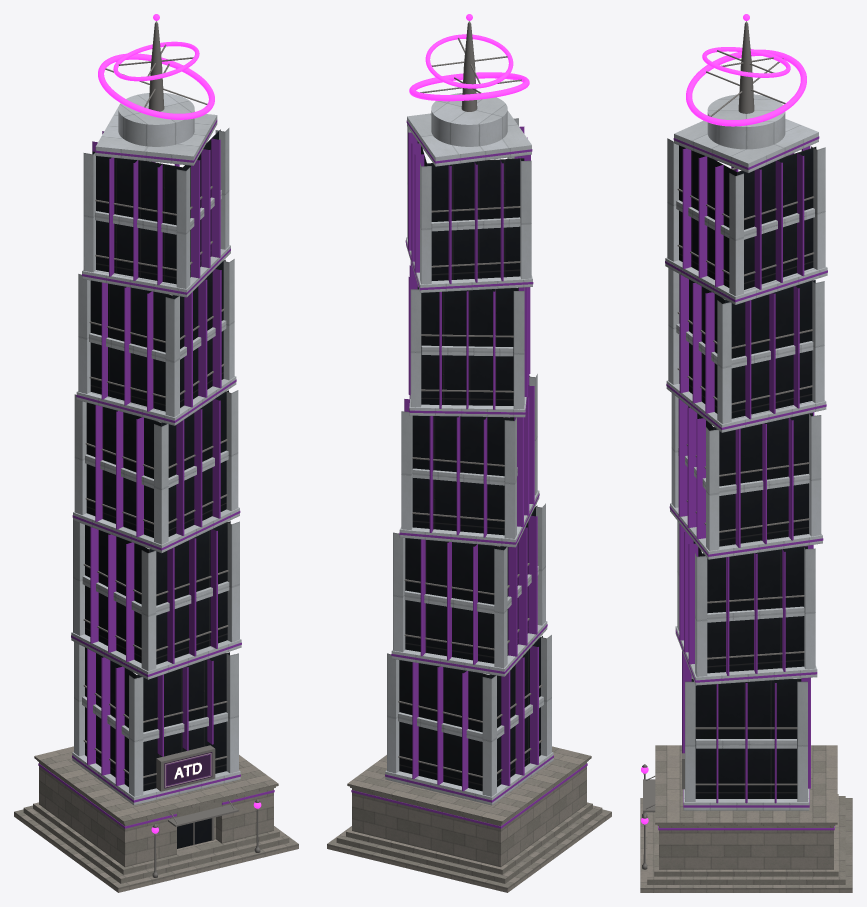
The model's file is agents-deploy-infrastructure.glb.
The picture shows the model from 3 angles, left to right: view 1: azimuth 30°, elevation 25°; view 2: azimuth 150°, elevation 25°; view 3: azimuth 270°, elevation 25°; orthographic projection.
Parts seen in each view (by area): view 1: Landmark · Agents That Deploy Infrastructure; view 2: Landmark · Agents That Deploy Infrastructure; view 3: Landmark · Agents That Deploy Infrastructure.
Boxes of the visible parts, x1,y1,x2,y2 form: Landmark · Agents That Deploy Infrastructure: [14, 14, 298, 892]; Landmark · Agents That Deploy Infrastructure: [327, 14, 611, 892]; Landmark · Agents That Deploy Infrastructure: [640, 14, 852, 892].
Bounding box in the file's own units: 12 × 52 × 12.
7 materials, 4 textured.
